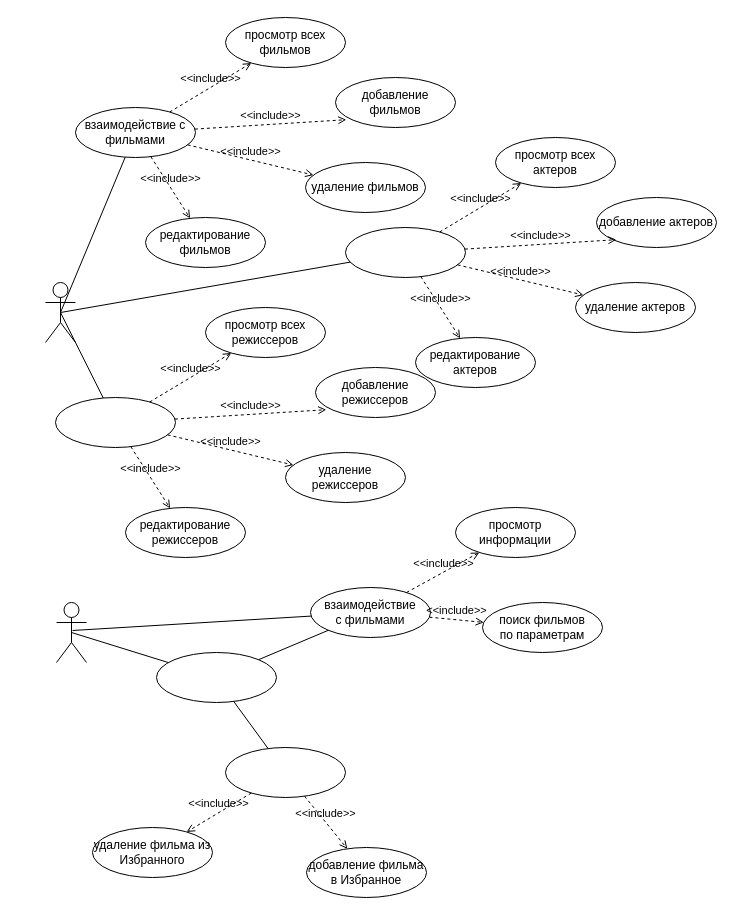
Some shapes in this 734 by 915 pixel diagram are drawn without their labels. The shapes that lost their labels are listed below. From the top down, each one's box as (x1, y1, x2, y2) in pixels, then its label:
(344, 226, 466, 278): взаимодействие с актерами
(44, 282, 76, 342): Администратор
(54, 396, 176, 448): взаимодействие с режисеерами
(56, 602, 86, 662): Пользователь
(156, 652, 276, 702): Регистрация/Вход в систему
(224, 746, 346, 798): взаимодействие с Избранным
